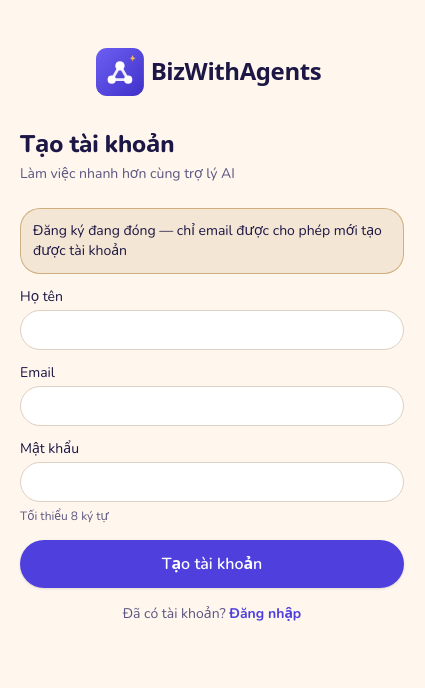
Scenario: RegisterPage › đăng ký đang đóng → báo trước nhưng vẫn cho gửi (email superadmin luôn đăng ký được); 2101 → báo lỗi
Expected: the text "Đăng ký đang đóng — chỉ email được cho phép mới tạo được tài khoản" is shown, [20,208,404,274]
Type "Trần Văn Bình" into the field labelled "Họ tên" at point(212, 330), box [20,310,404,350]
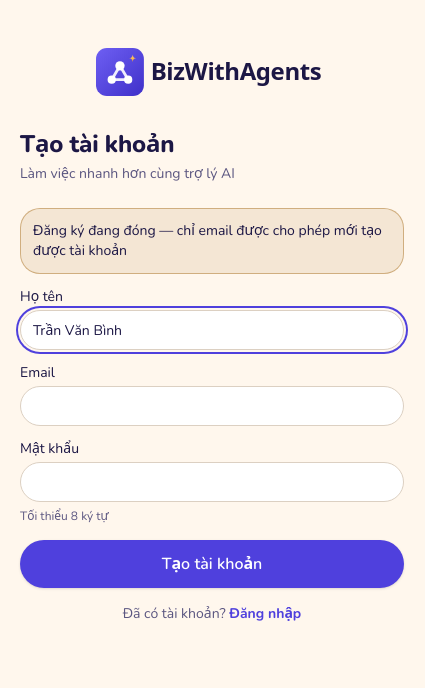
Type "binh@test.local" into the field labelled "Email" at point(212, 406), box [20,386,404,426]
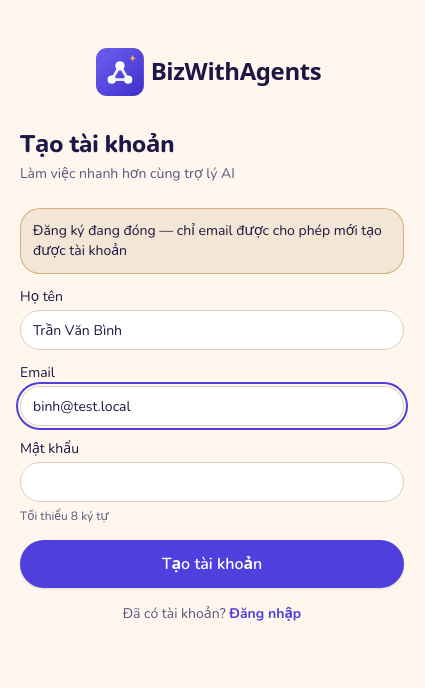
Type "password123" into the password field labelled "Mật khẩu" at point(212, 482), box [20,462,404,502]
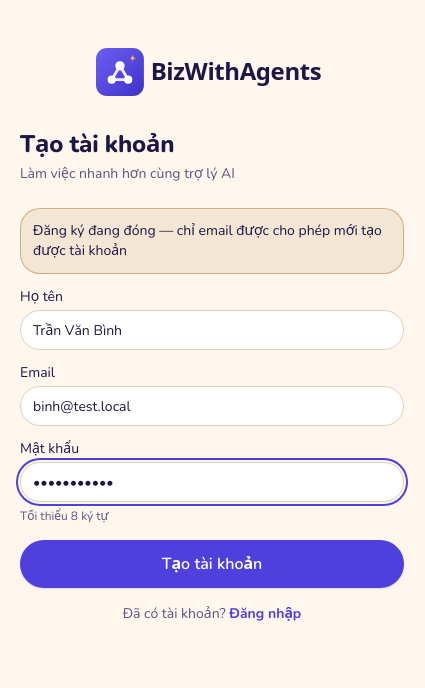
Click the button with test id "register-submit" at point(212, 564), box [20,540,404,588]
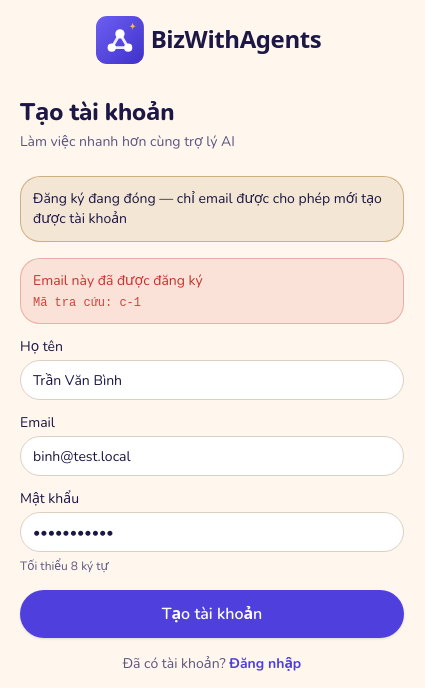
Result: the message "Email này đã được đăng ký Mã tra cứu: c-1" is shown at [20,258,404,324]
